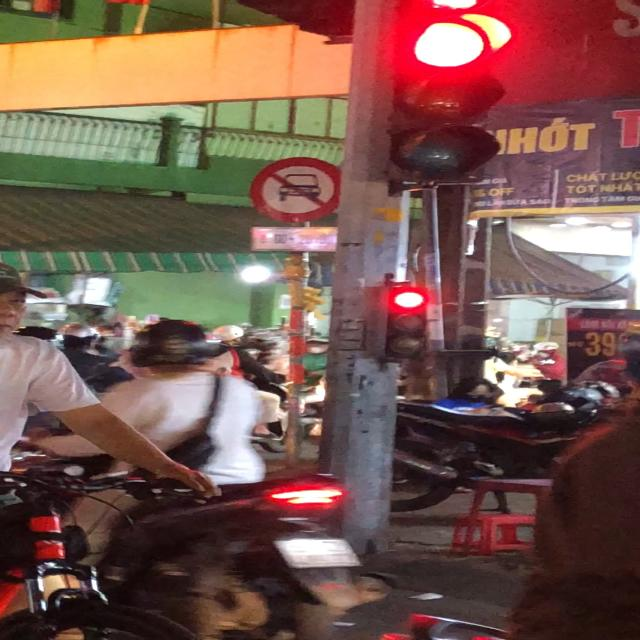Bien bao cam xe oto: (247, 155, 347, 226)
